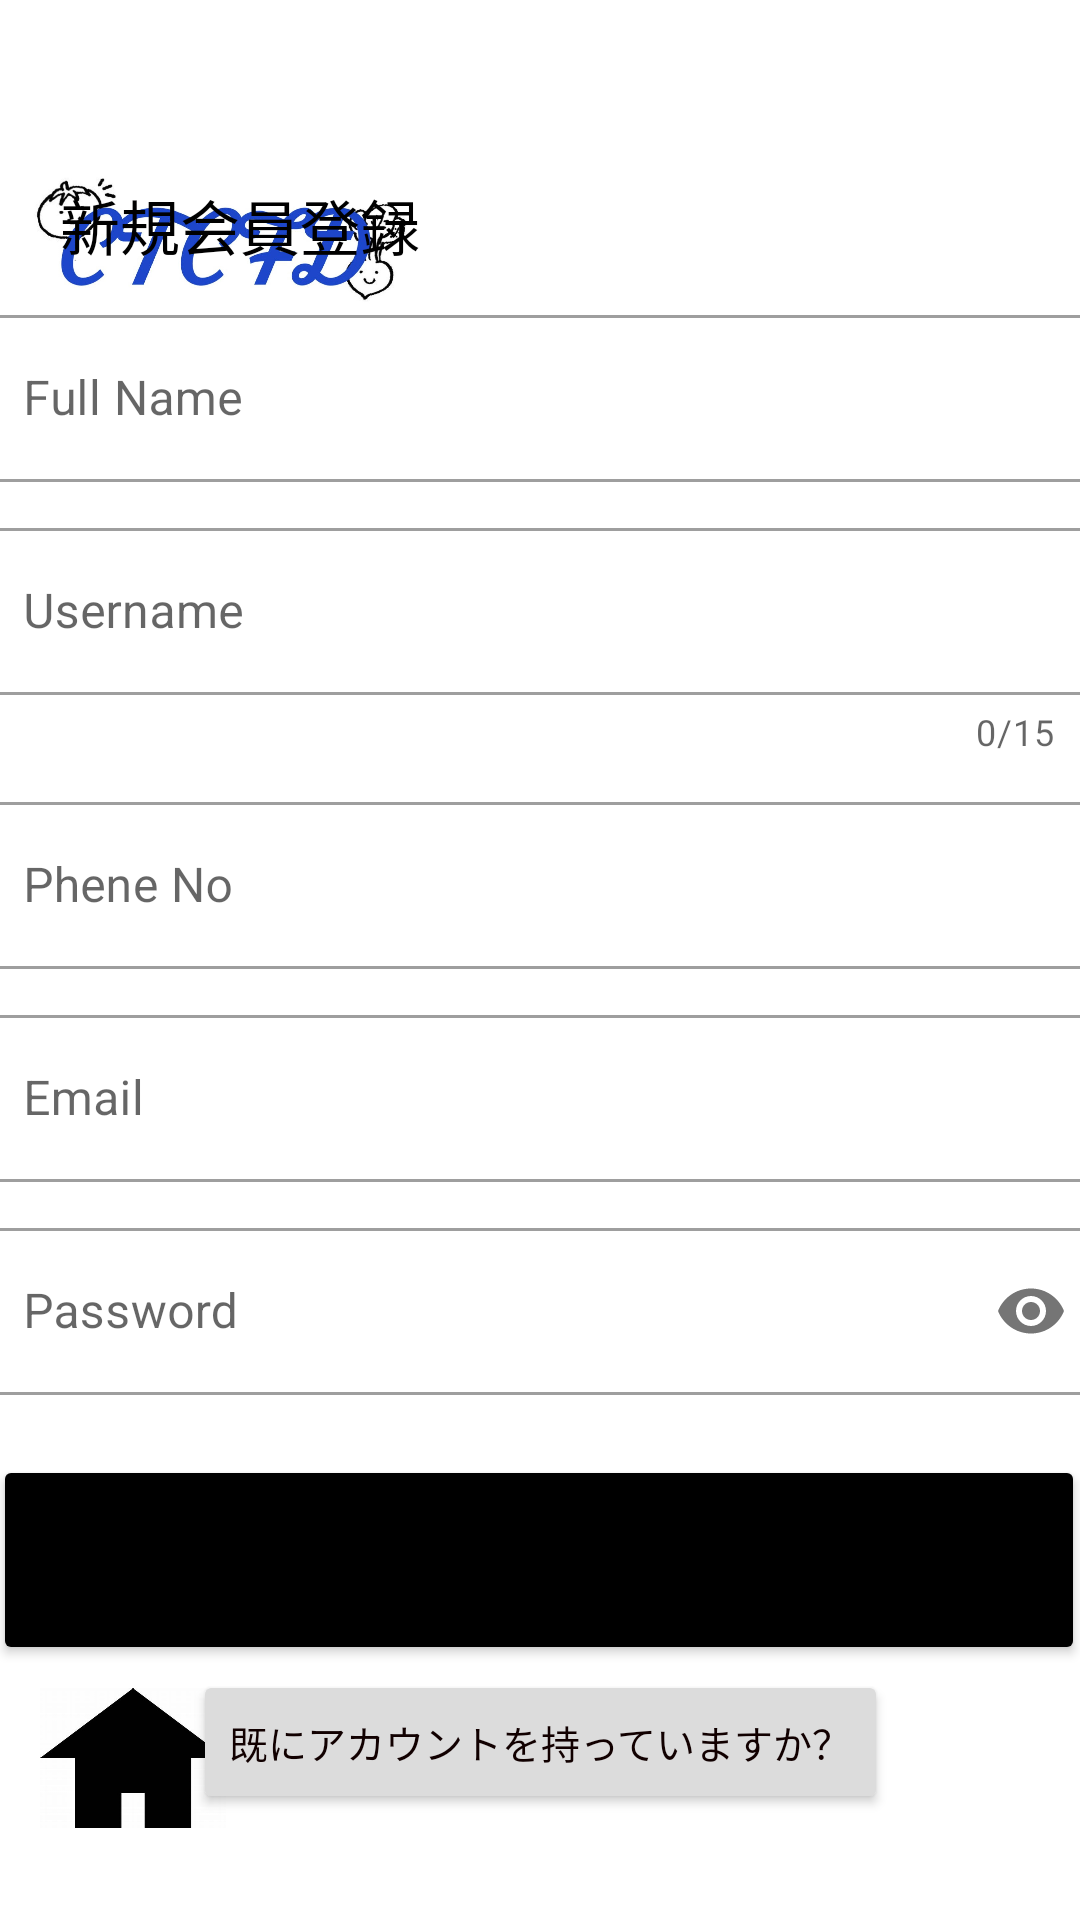

Icons on this 1080 x 1920 Android screen, each with the point to tap as (x=x, y=y):
return home: (x=133, y=1758)
